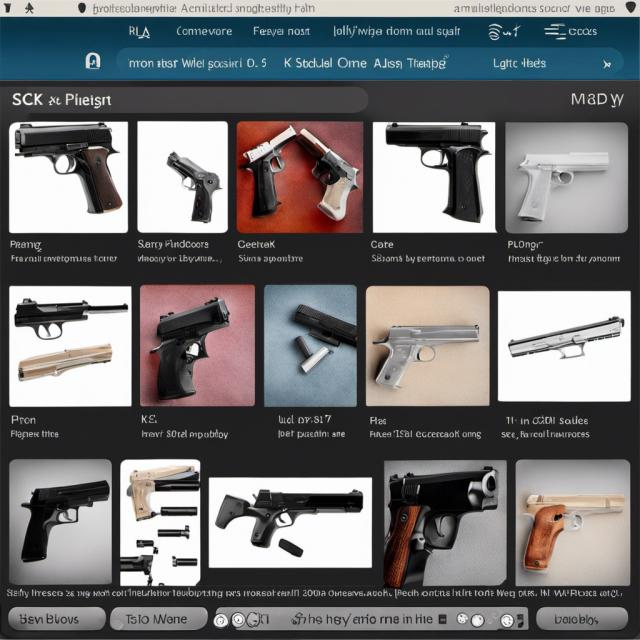gun: (382, 466, 504, 589), (384, 116, 490, 224), (14, 118, 131, 211), (141, 297, 242, 402), (520, 490, 624, 583), (370, 315, 488, 395), (11, 479, 111, 562), (246, 488, 369, 554), (517, 150, 607, 228), (297, 120, 362, 224), (238, 118, 296, 222), (159, 146, 228, 226), (18, 299, 129, 340)
